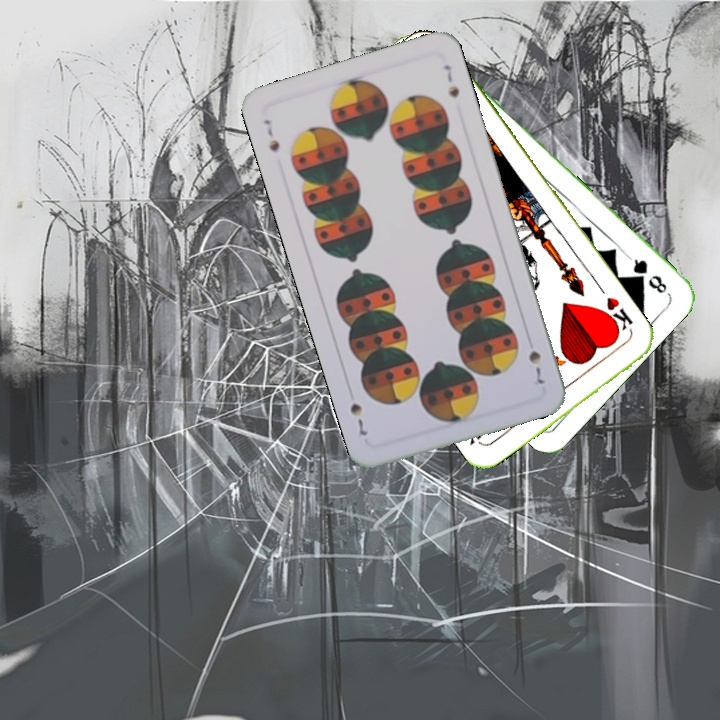G8: (624, 252, 670, 297)
HK: (597, 292, 636, 338)
S7: (524, 346, 548, 390), (259, 115, 282, 155)
